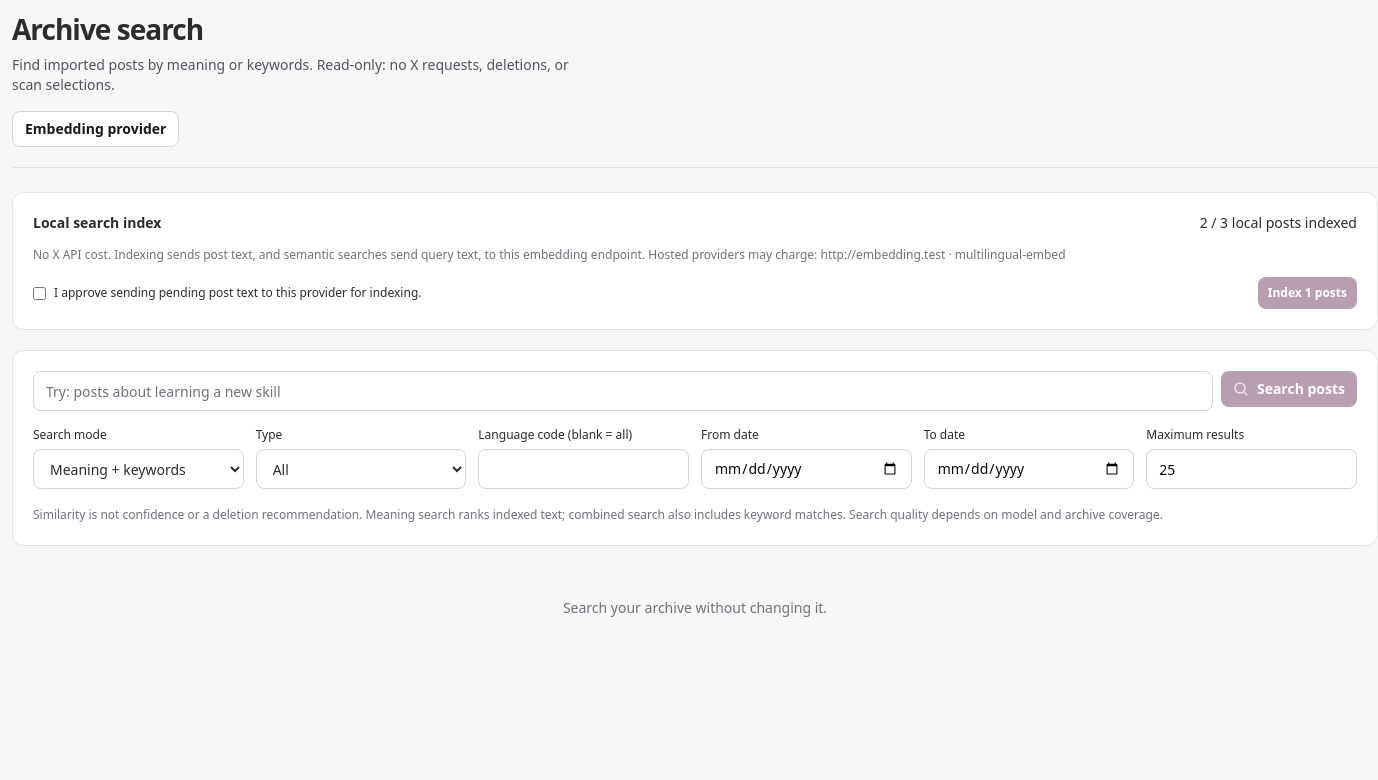
Test: requires explicit consent before indexing and never starts search on mount
Expected: the button "Index 1 posts" is disabled, left=1258, top=277, right=1357, bottom=309
Expected: the link with id "settings-embedding" is shown, left=12, top=111, right=180, bottom=147
Click the checkbox: (40, 294) left=33, top=287, right=46, bottom=300
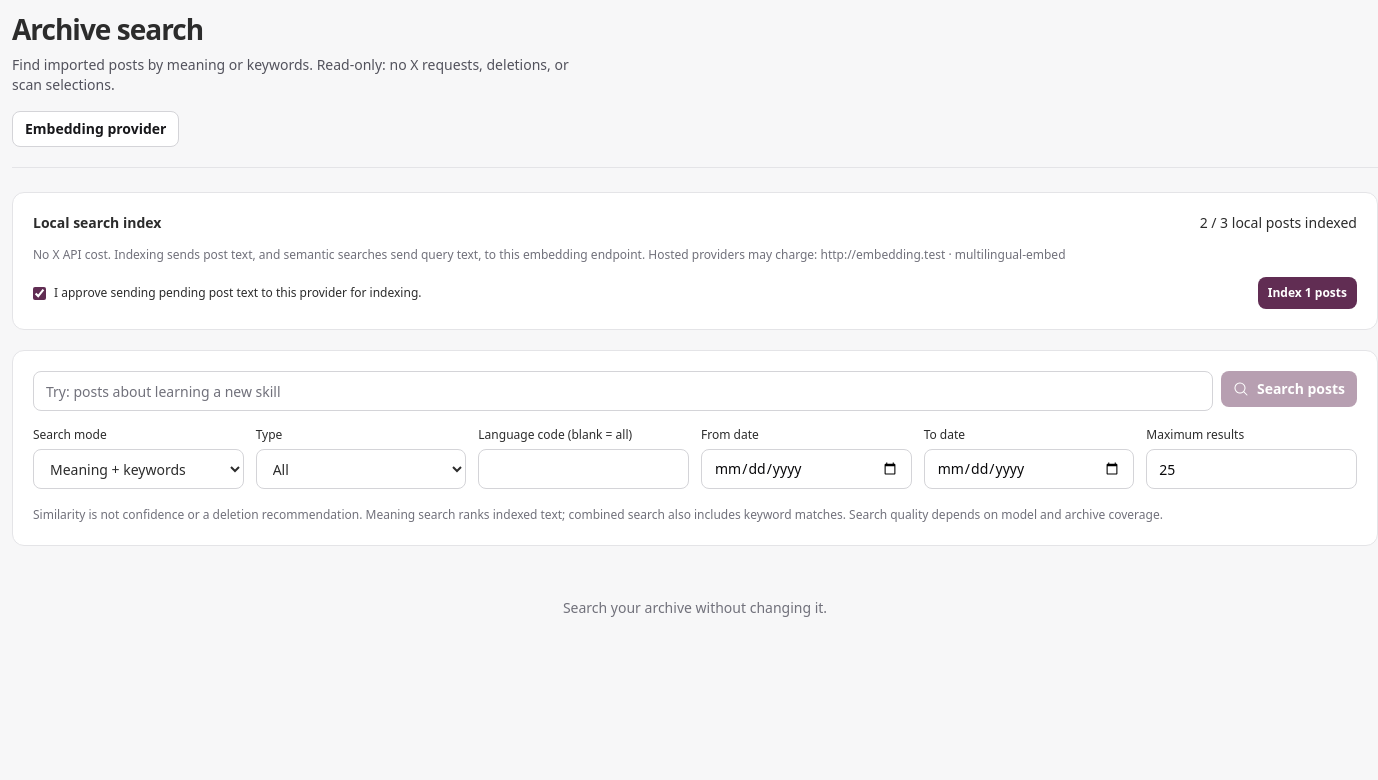
Now the button "Index 1 posts" is enabled
Click the button "Index 1 posts": (1307, 293) left=1258, top=277, right=1357, bottom=309
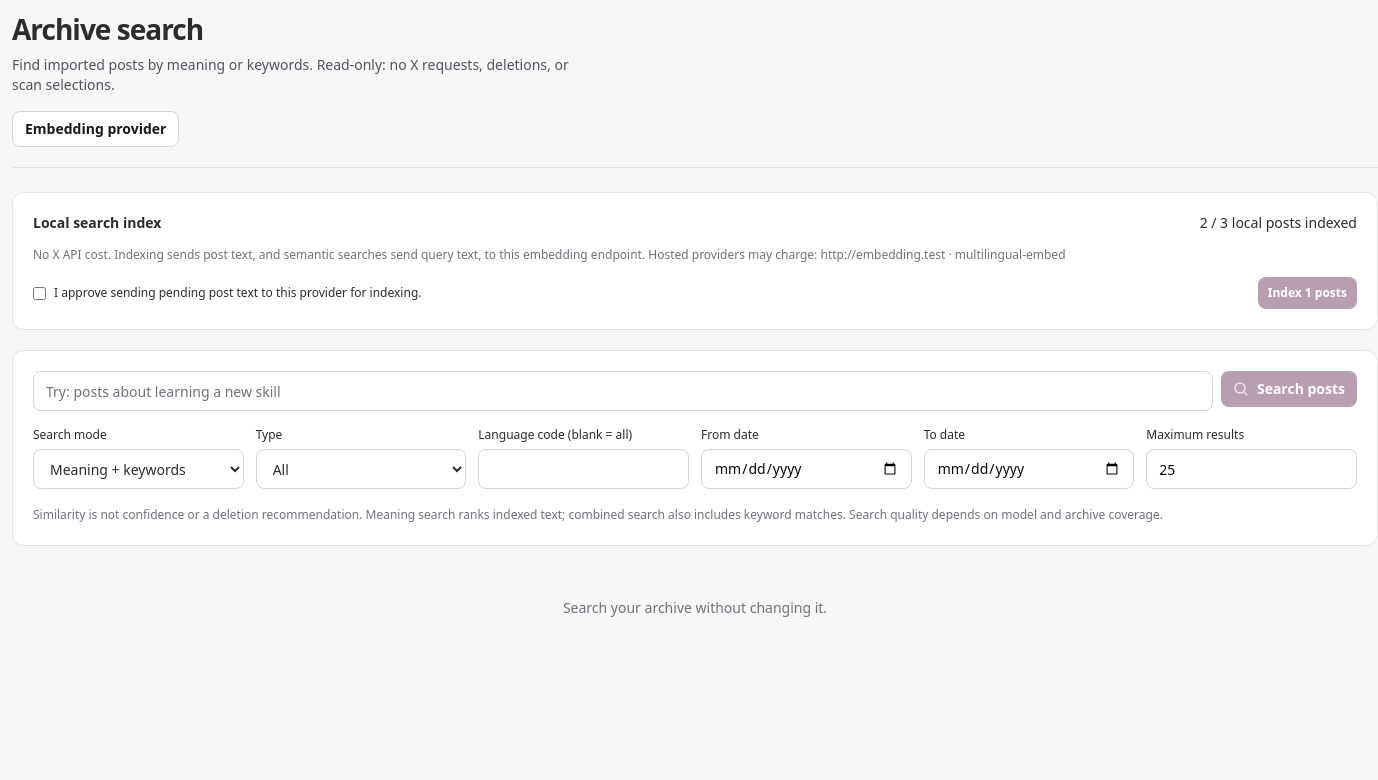
Now the button "Index 1 posts" is disabled, box left=1258, top=277, right=1357, bottom=309
